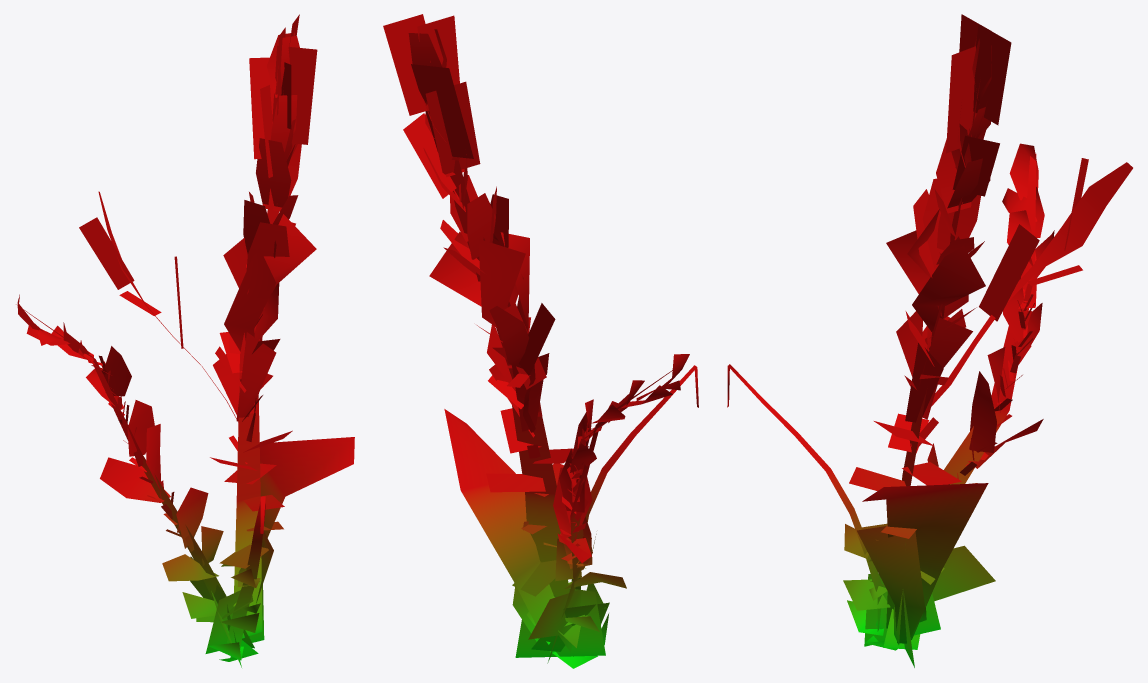
The model's file is Myricaria_LOD2_Var4_tfbldaor.fbx.
3 renders of one model, left to right at view 1: azimuth 30°, elevation 25°; view 2: azimuth 150°, elevation 25°; view 3: azimuth 270°, elevation 25°, orthographic. The views are drawn at different scales.
Visible parts, largest first — view 1: _5ab9_Var4_LOD2; view 2: _5ab9_Var4_LOD2; view 3: _5ab9_Var4_LOD2.
Part boxes in pixels (x1=…): _5ab9_Var4_LOD2: x1=16, y1=14, x2=354, y2=667; _5ab9_Var4_LOD2: x1=383, y1=14, x2=698, y2=668; _5ab9_Var4_LOD2: x1=727, y1=14, x2=1132, y2=667.
Bounding box in the file's own units: 26.46 × 53.37 × 28.76.
